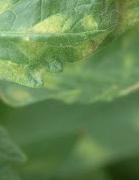Tomato mold leaf: (0, 0, 139, 111)
